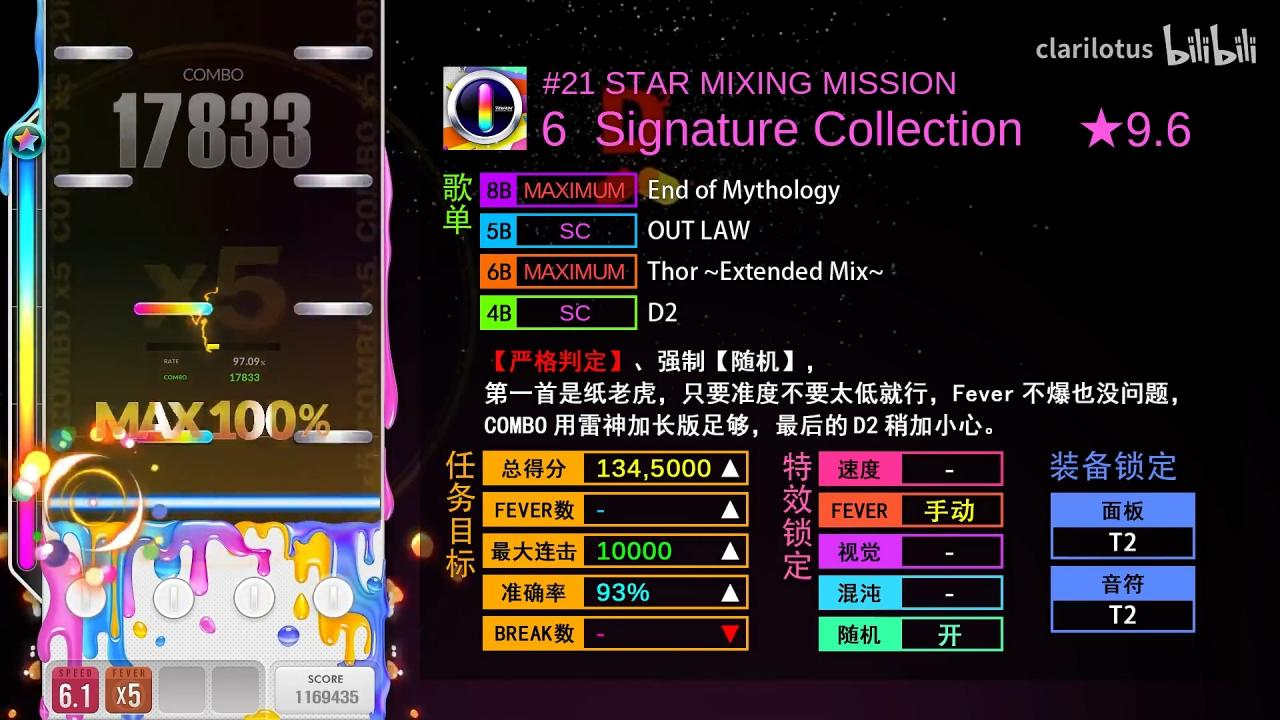note: (294, 46, 374, 61), (134, 301, 213, 316), (53, 46, 134, 60), (54, 174, 134, 188), (134, 430, 214, 444), (293, 430, 373, 444), (294, 174, 373, 188), (295, 302, 373, 316)
